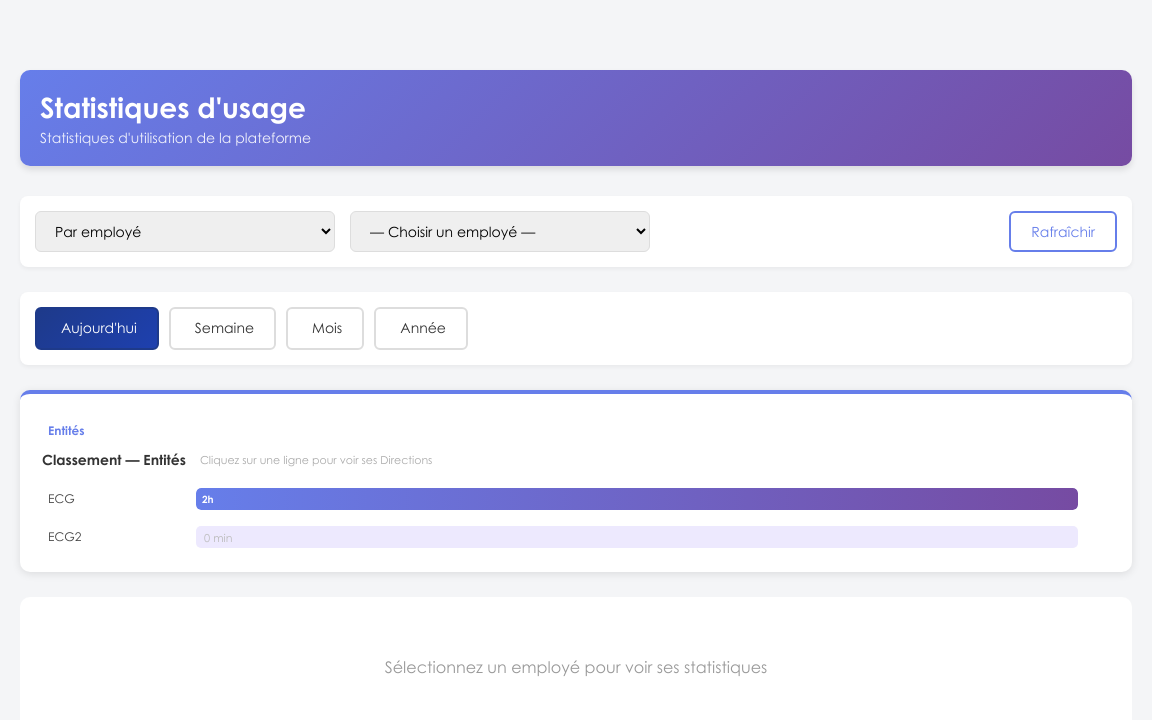
Scenario: UsageStats — roll-up histogram › breadcrumb root button resets drill to Entités
Check: the text "ECG" is shown, box [48,491,75,506]
Drill into ECG
Click the button "ECG 2h": (576, 499) [42,484,1110,514]
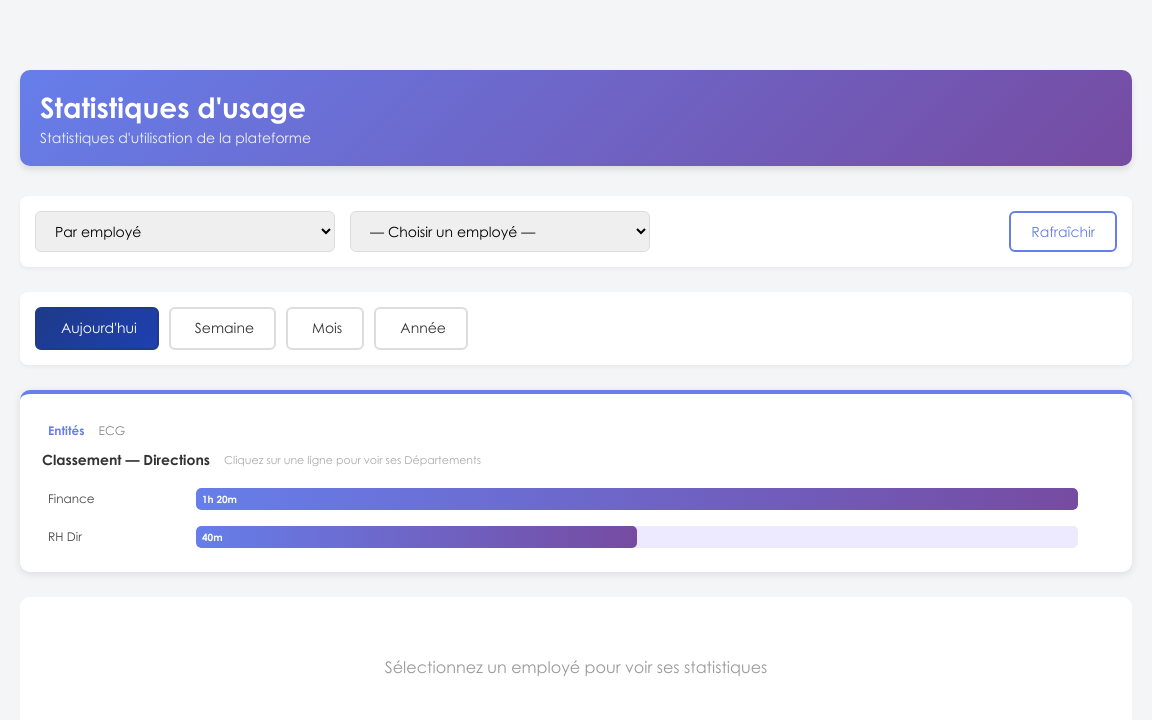
Check: the element with class "comparison-title" shows "Directions", box [143,451,210,468]
Click the button with class "breadcrumb-item" showing "Entités": (66, 430) [42,420,90,441]
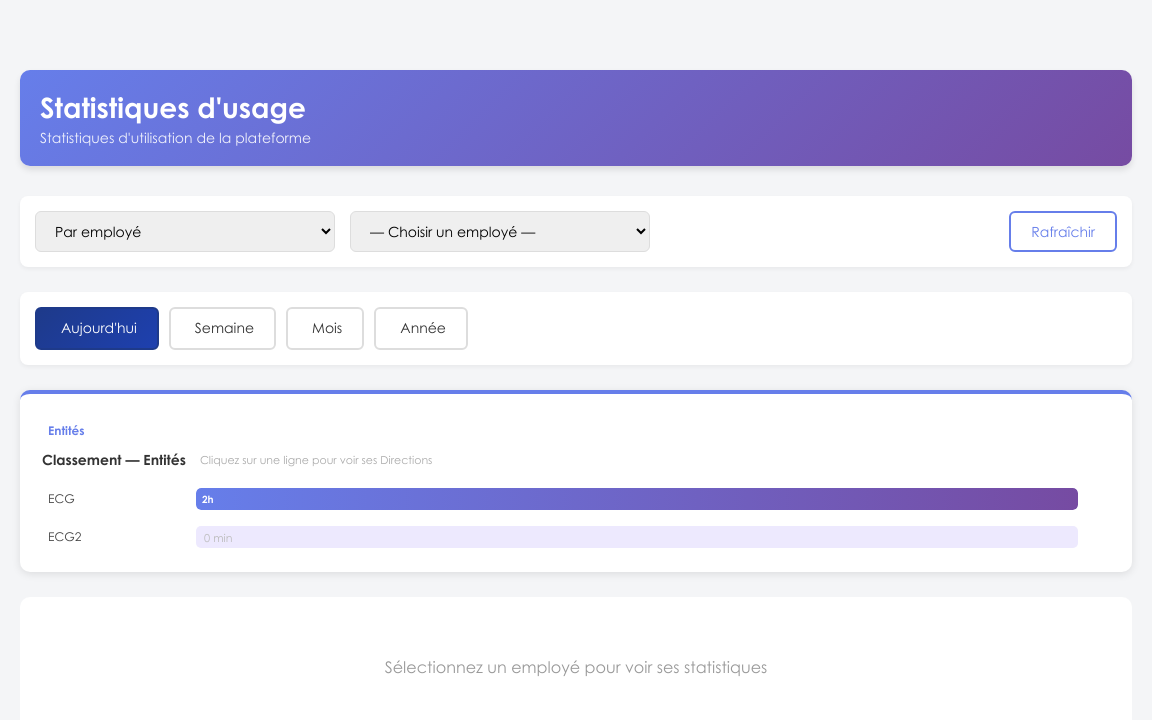
Check: the element with class "comparison-title" shows "Entités", box [143,451,186,468]
Check: the text "ECG" is shown, box [48,491,75,506]
